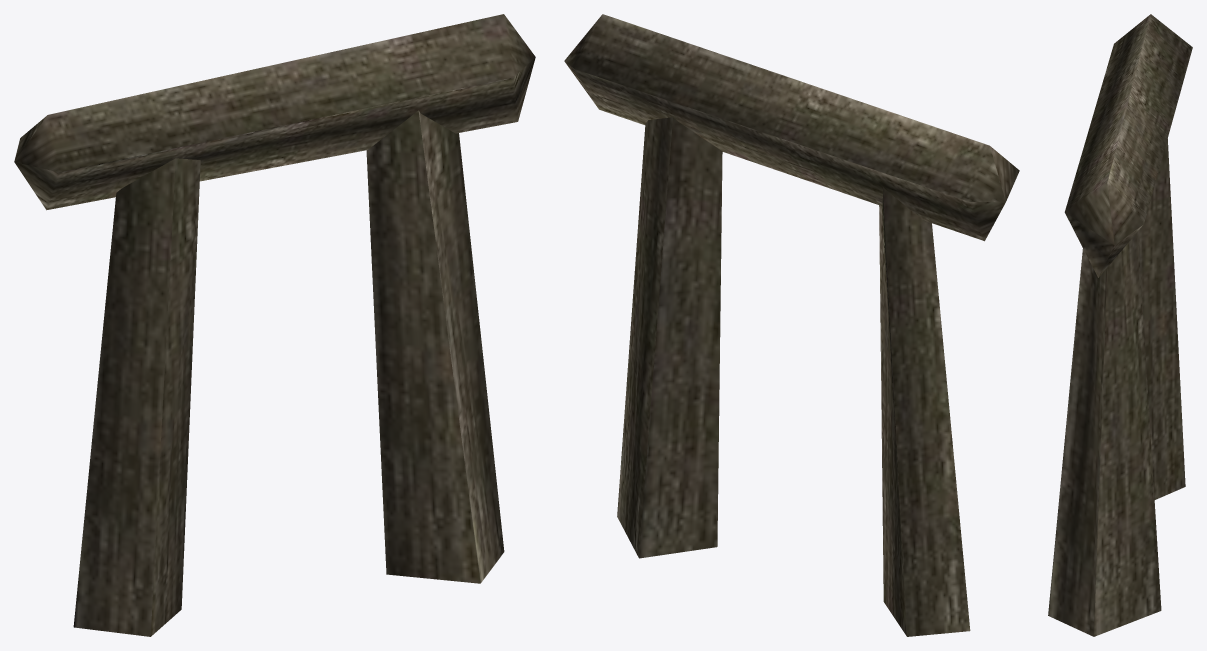
File: MIN_LOB_HANDRAIL_1.glb
3 views of the same model, side by side, from view 1: azimuth 30°, elevation 25°; view 2: azimuth 150°, elevation 25°; view 3: azimuth 270°, elevation 25° (orthographic). The views are drawn at different scales.
Visible parts, largest first — view 1: Mesh; view 2: Mesh; view 3: Mesh.
Part boxes in pixels (left/top/right/bottom): Mesh: left=14, top=14, right=535, bottom=636; Mesh: left=564, top=14, right=1019, bottom=636; Mesh: left=1048, top=14, right=1192, bottom=636.
Size of the model in its own units: 1.16 by 1.19 by 0.342.
1 material, 1 textured.
